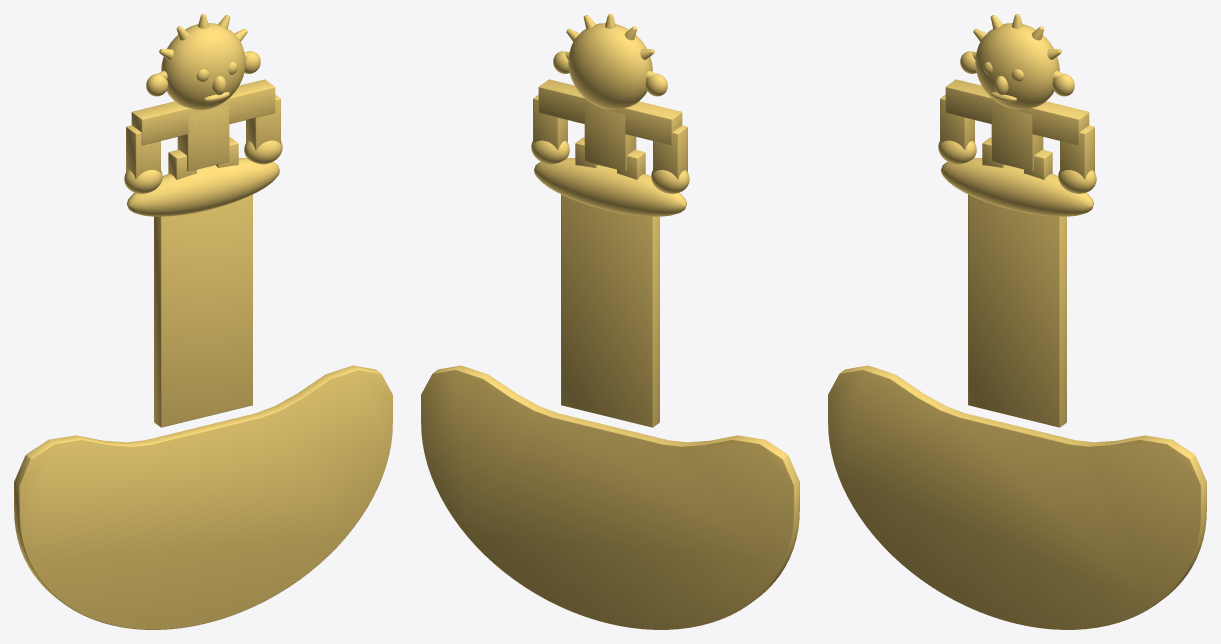
The model's file is pectoral_dorado.glb.
The picture shows the model from 3 angles, left to right: view 1: azimuth 30°, elevation 25°; view 2: azimuth 150°, elevation 25°; view 3: azimuth 330°, elevation 25°; orthographic projection.
Visible parts, largest first — view 1: PectoralDorado; view 2: PectoralDorado; view 3: PectoralDorado.
Part boxes in pixels (x1,y1,x2,y2): PectoralDorado: (14, 14, 392, 629); PectoralDorado: (421, 14, 799, 629); PectoralDorado: (828, 14, 1206, 629).
Size of the model in its own units: 8.1 by 12.57 by 1.32.
